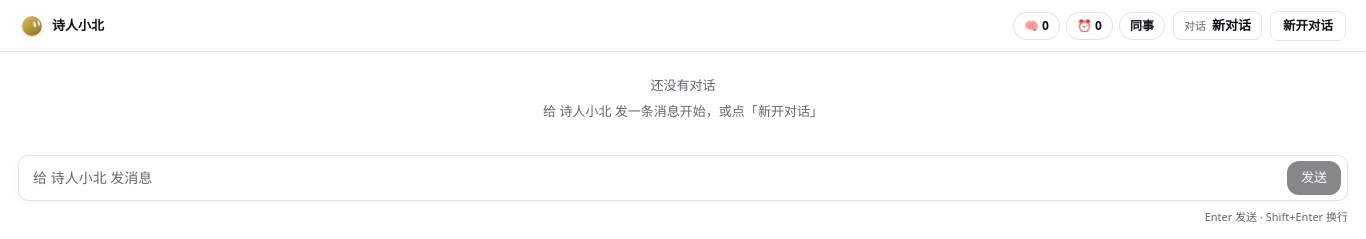
Test case: Conversation › keeps the first outgoing message visible while the new session history is loading
The image size is (1366, 239).
Type "立即看到我发出的消息" into the text box with test id "composer-input" at (654, 178), box left=25, top=160, right=1283, bottom=196
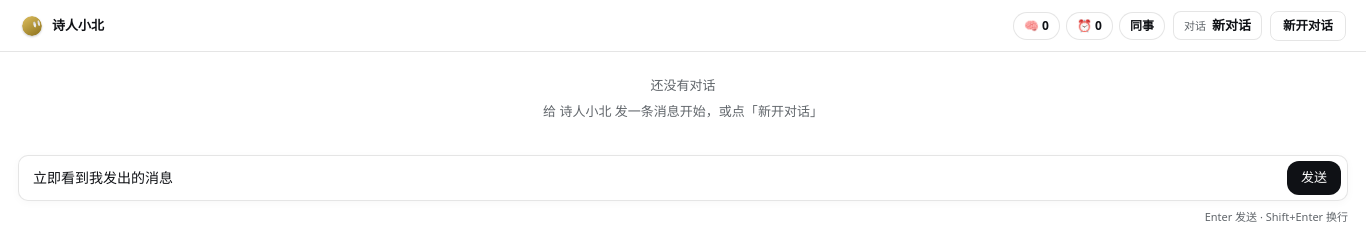
Press Enter in the text box with test id "composer-input", box left=25, top=160, right=1283, bottom=196
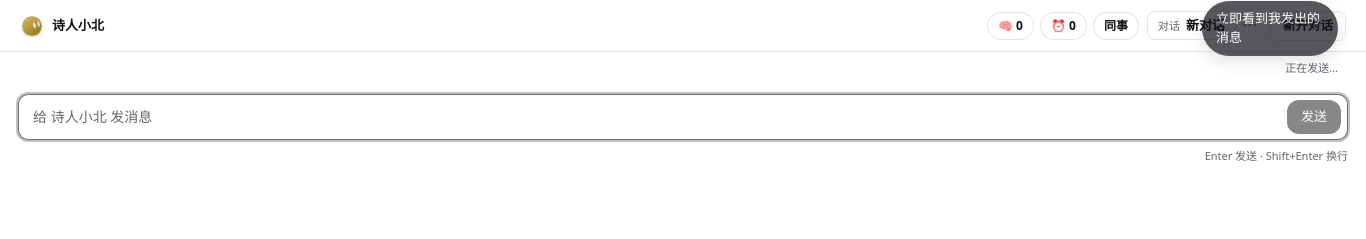
Result: the element with test id "transcript-pending" shows "立即看到我发出的消息" at left=1216, top=8, right=1320, bottom=46
